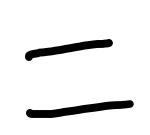eqv: (26, 39, 134, 119)
